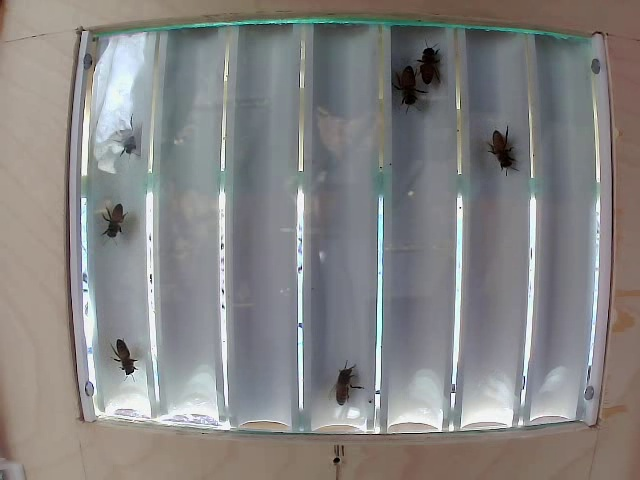bee: (326, 351, 357, 411), (102, 192, 134, 249), (488, 124, 520, 180), (107, 122, 143, 169), (420, 40, 447, 99), (101, 349, 139, 382), (402, 55, 417, 112)
